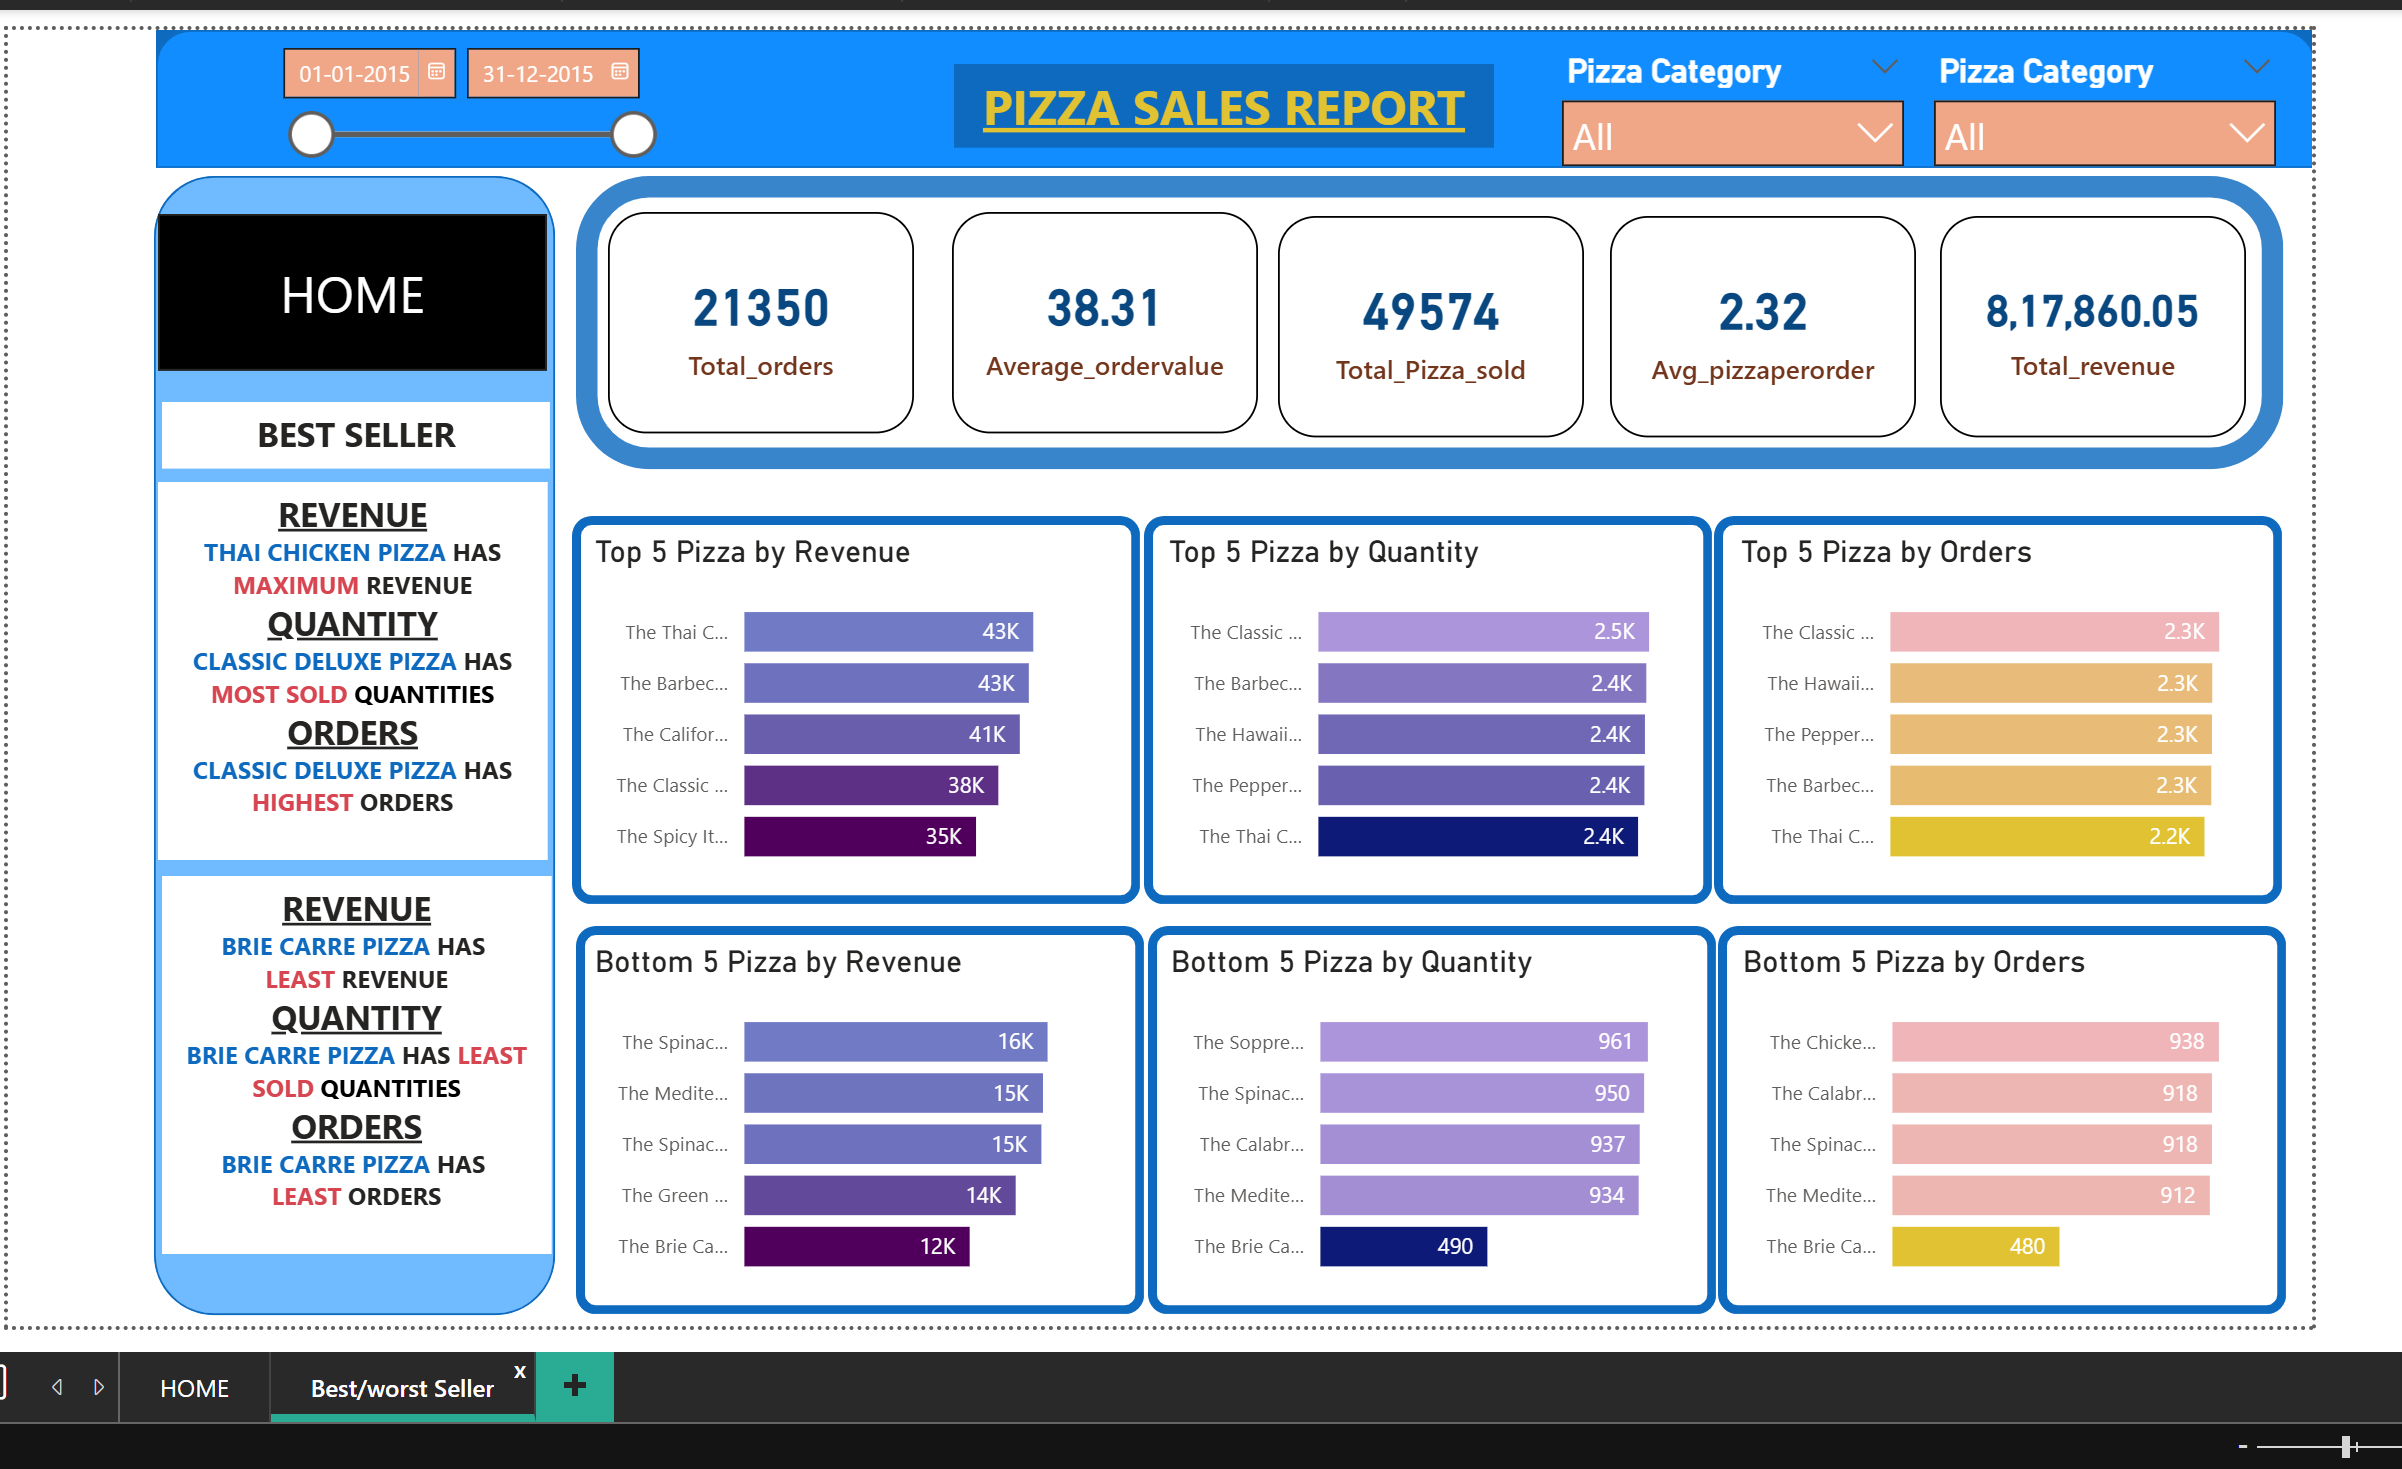

What the dashboard file says about the page in this screenshot:
{"tool":"powerbi","page":{"name":"Best/worst Seller","canvas":[1280,720],"ordinal":1},"visuals":[{"type":"shape","box":[81.7,0,1200,76.7],"z":0},{"type":"shape","box":[315.7,81.4,948.6,162.9],"z":1000},{"type":"card","fields":{"Values":["pizza_sales.Total_orders"]},"box":[332.9,101.4,170,122.9],"z":2000},{"type":"card","fields":{"Values":["pizza_sales.Total_Pizza_sold"]},"box":[705.7,102.9,170,122.9],"z":3000},{"type":"card","fields":{"Values":["pizza_sales.Average_ordervalue"]},"box":[524.3,101.4,170,122.9],"z":4000},{"type":"card","title":"Avg_pizzaperorder","fields":{"Values":["pizza_sales.Average_pizzaperorder"]},"box":[890,102.9,170,122.9],"z":5000},{"type":"card","fields":{"Values":["pizza_sales.Total_revenue"]},"box":[1072.9,102.9,170,122.9],"z":6000},{"type":"shape","box":[315.7,497.2,315.7,215.7],"z":7000},{"type":"shape","box":[950,497.2,315.7,215.7],"z":8000},{"type":"shape","box":[632.9,497.2,315.7,215.7],"z":9000},{"type":"shape","box":[81.4,81.4,222.9,632.9],"z":10000},{"type":"textbox","box":[85.7,207.1,215.7,37.1],"z":11000},{"type":"textbox","box":[83.8,251.2,216.2,210],"z":12000},{"type":"slicer","fields":{"Values":["pizza_sales.pizza_category"]},"box":[853.6,6.4,210,70.7],"z":14000},{"type":"slicer","fields":{"Values":["pizza_sales.pizza_size"]},"box":[1060,6.4,210,70.7],"z":15000},{"type":"textbox","box":[525,18.3,300,46.7],"z":16000},{"type":"shape","box":[313.8,270.5,315.7,215.7],"z":18000},{"type":"shape","box":[948.1,270.5,315.7,215.7],"z":19000},{"type":"shape","box":[631,270.5,315.7,215.7],"z":20000},{"type":"clusteredBarChart","title":"Top 5  Pizza by Revenue","fields":{"Category":["pizza_sales.pizza_name"],"Y":["pizza_sales.Total_revenue"]},"box":[321.2,280,300,196.2],"z":21000},{"type":"clusteredBarChart","title":"Bottom 5  Pizza by Revenue","fields":{"Category":["pizza_sales.pizza_name"],"Y":["pizza_sales.Total_revenue"]},"box":[321.2,507.5,300,196.2],"z":22000},{"type":"clusteredBarChart","title":"Top 5  Pizza by Quantity","fields":{"Category":["pizza_sales.pizza_name"],"Y":["pizza_sales.Total_Pizza_sold"]},"box":[640,280,300,196.2],"z":23000},{"type":"clusteredBarChart","title":"Bottom 5  Pizza by Quantity","fields":{"Category":["pizza_sales.pizza_name"],"Y":["pizza_sales.Total_Pizza_sold"]},"box":[641.2,507.5,300,196.2],"z":24000},{"type":"clusteredBarChart","title":"Top 5  Pizza by Orders","fields":{"Category":["pizza_sales.pizza_name"],"Y":["pizza_sales.Total_orders"]},"box":[957.5,280,300,196.2],"z":25000},{"type":"clusteredBarChart","title":"Bottom 5  Pizza by Orders","fields":{"Category":["pizza_sales.pizza_name"],"Y":["pizza_sales.Total_orders"]},"box":[958.8,507.5,300,196.2],"z":26000},{"type":"textbox","box":[85,470,216.2,210],"z":26001},{"type":"pageNavigator","box":[83.8,102.5,216.2,87.5],"z":26002},{"type":"slicer","fields":{"Values":["pizza_sales.order_date"]},"box":[140,0,228.3,76.7],"z":26003}]}

Visuals, with their boxes on the page's 1280x720 design canvas (x1, y1, x2, y2). These are canvas units, not pixel positions in the 2402x1469 screenshot, which may show the page scaled, cropped or inside an application window:
shape: (82,0,1282,77)
shape: (316,81,1264,244)
card - pizza_sales.Total_orders: (333,101,503,224)
card - pizza_sales.Total_Pizza_sold: (706,103,876,226)
card - pizza_sales.Average_ordervalue: (524,101,694,224)
"Avg_pizzaperorder" card: (890,103,1060,226)
card - pizza_sales.Total_revenue: (1073,103,1243,226)
shape: (316,497,631,713)
shape: (950,497,1266,713)
shape: (633,497,949,713)
shape: (81,81,304,714)
textbox: (86,207,301,244)
textbox: (84,251,300,461)
slicer - pizza_sales.pizza_category: (854,6,1064,77)
slicer - pizza_sales.pizza_size: (1060,6,1270,77)
textbox: (525,18,825,65)
shape: (314,270,630,486)
shape: (948,270,1264,486)
shape: (631,270,947,486)
"Top 5  Pizza by Revenue" clusteredBarChart: (321,280,621,476)
"Bottom 5  Pizza by Revenue" clusteredBarChart: (321,508,621,704)
"Top 5  Pizza by Quantity" clusteredBarChart: (640,280,940,476)
"Bottom 5  Pizza by Quantity" clusteredBarChart: (641,508,941,704)
"Top 5  Pizza by Orders" clusteredBarChart: (958,280,1258,476)
"Bottom 5  Pizza by Orders" clusteredBarChart: (959,508,1259,704)
textbox: (85,470,301,680)
pageNavigator: (84,102,300,190)
slicer - pizza_sales.order_date: (140,0,368,77)
